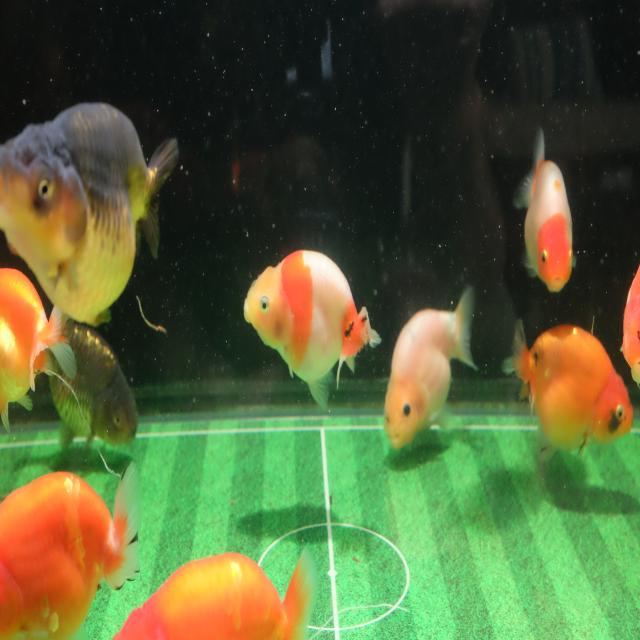Tilapia: (0, 100, 181, 328), (0, 459, 144, 640), (243, 247, 381, 411), (108, 540, 322, 640), (502, 315, 633, 469), (384, 285, 478, 451), (0, 266, 78, 439), (46, 320, 140, 454), (512, 125, 576, 296)
